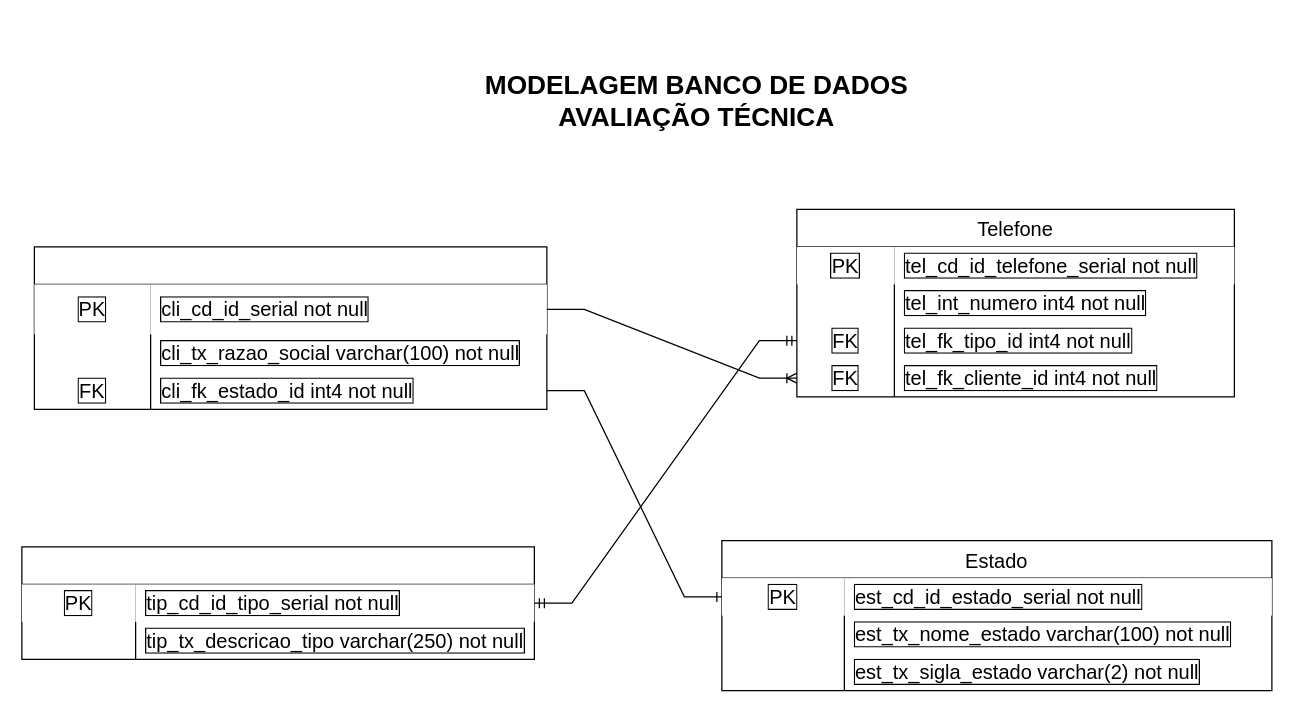
The diagram is 1294 pixels wide and 713 high, and some of its shapes have lost their labels. Here are the shapes that lost their labels. From the top down, the box of each, then its label:
(33, 246, 547, 409): Cliente
(21, 546, 534, 659): Tipo_Telefone
